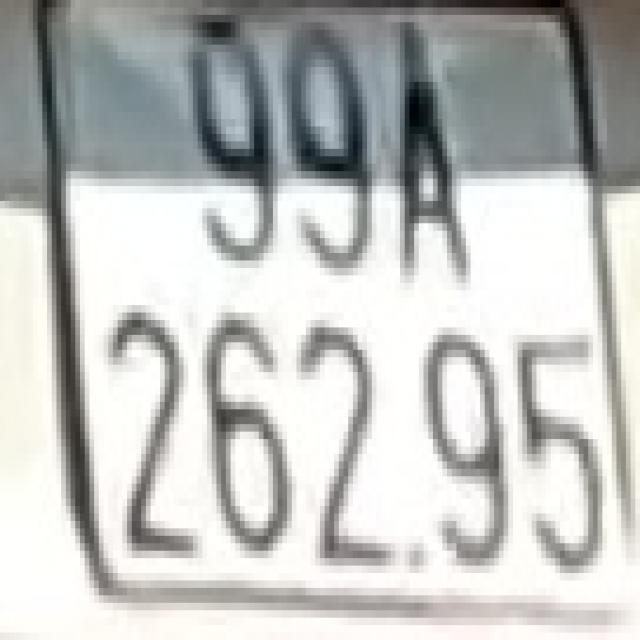2: (296, 313, 396, 573), (108, 305, 198, 558)
5: (513, 327, 607, 573)
6: (202, 312, 292, 550)
9: (283, 15, 377, 275), (188, 7, 278, 268), (419, 320, 508, 566)
A: (391, 15, 480, 290)
